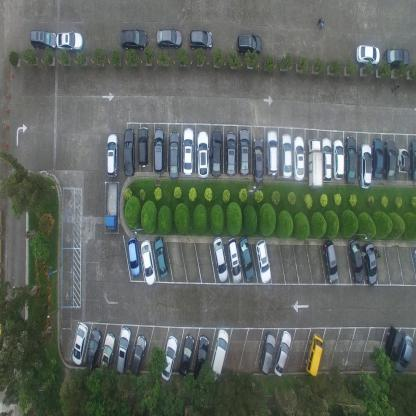car: (382, 325, 404, 376), (209, 328, 229, 384), (304, 330, 324, 378), (272, 330, 292, 376), (307, 137, 323, 189), (254, 238, 272, 284), (160, 335, 178, 381), (238, 235, 255, 283), (394, 332, 413, 374), (258, 331, 276, 375), (115, 326, 131, 375), (71, 321, 88, 367), (129, 334, 147, 377), (193, 334, 209, 382), (348, 237, 364, 284), (140, 240, 156, 287), (85, 327, 102, 371), (105, 180, 119, 233), (213, 235, 228, 283), (99, 331, 115, 376), (363, 240, 378, 287), (227, 237, 242, 284), (122, 127, 136, 177), (209, 128, 223, 178), (322, 240, 338, 283), (153, 236, 169, 278), (178, 334, 194, 376), (119, 28, 148, 51), (55, 29, 84, 51), (182, 127, 195, 176), (265, 129, 278, 178), (196, 131, 209, 179), (344, 134, 356, 186), (359, 141, 372, 189), (236, 33, 263, 56), (156, 27, 183, 50), (188, 28, 213, 52), (168, 130, 180, 180), (384, 47, 410, 70), (30, 28, 56, 51), (106, 132, 119, 178), (127, 235, 141, 277), (153, 126, 165, 174), (239, 127, 250, 177), (225, 131, 237, 176), (292, 136, 304, 181), (356, 44, 380, 66), (137, 125, 149, 169), (281, 132, 292, 180), (321, 135, 332, 183), (372, 137, 384, 181), (252, 136, 263, 183), (385, 137, 396, 182), (333, 137, 344, 181), (397, 145, 410, 174), (410, 139, 415, 182)
